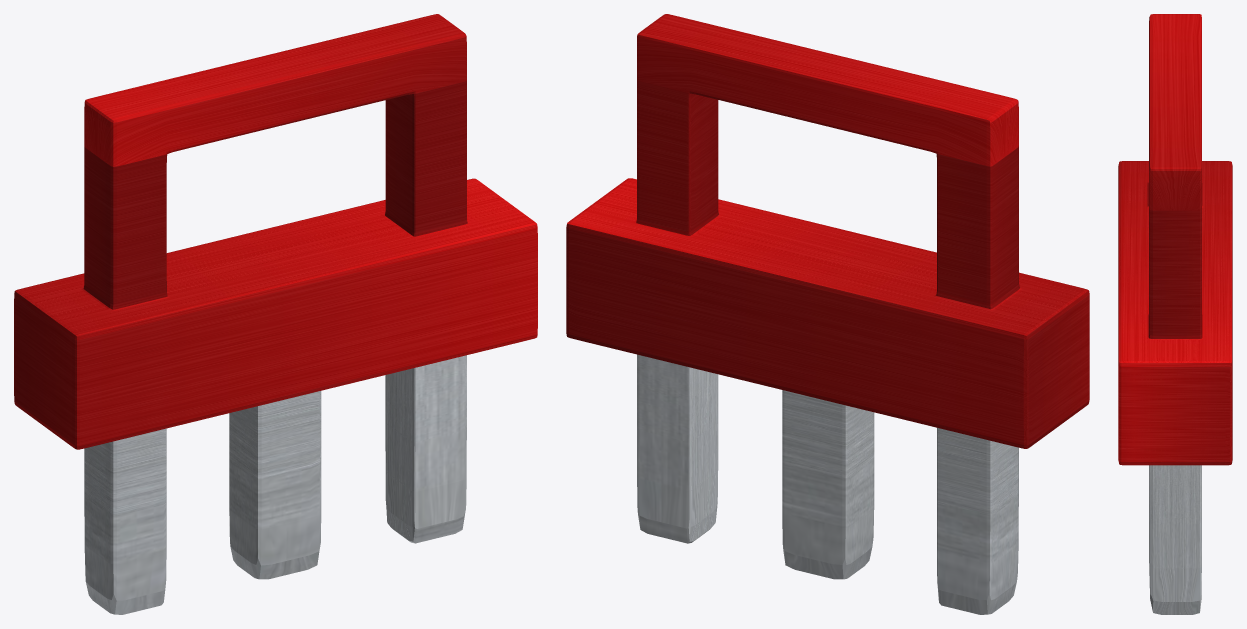
File: Lever_arm-light(1).obj
The picture shows the model from 3 angles, left to right: view 1: azimuth 30°, elevation 25°; view 2: azimuth 150°, elevation 25°; view 3: azimuth 270°, elevation 25°; orthographic projection. The views are drawn at different scales.
Parts seen in each view (by area): view 1: Cube.002; view 2: Cube.002; view 3: Cube.002.
Boxes of the visible parts, left/top/right/bottom form: Cube.002: left=14, top=14, right=537, bottom=614; Cube.002: left=566, top=14, right=1089, bottom=614; Cube.002: left=1118, top=14, right=1232, bottom=614.
Size of the model in its own units: 1.54 by 1.59 by 0.3672.
